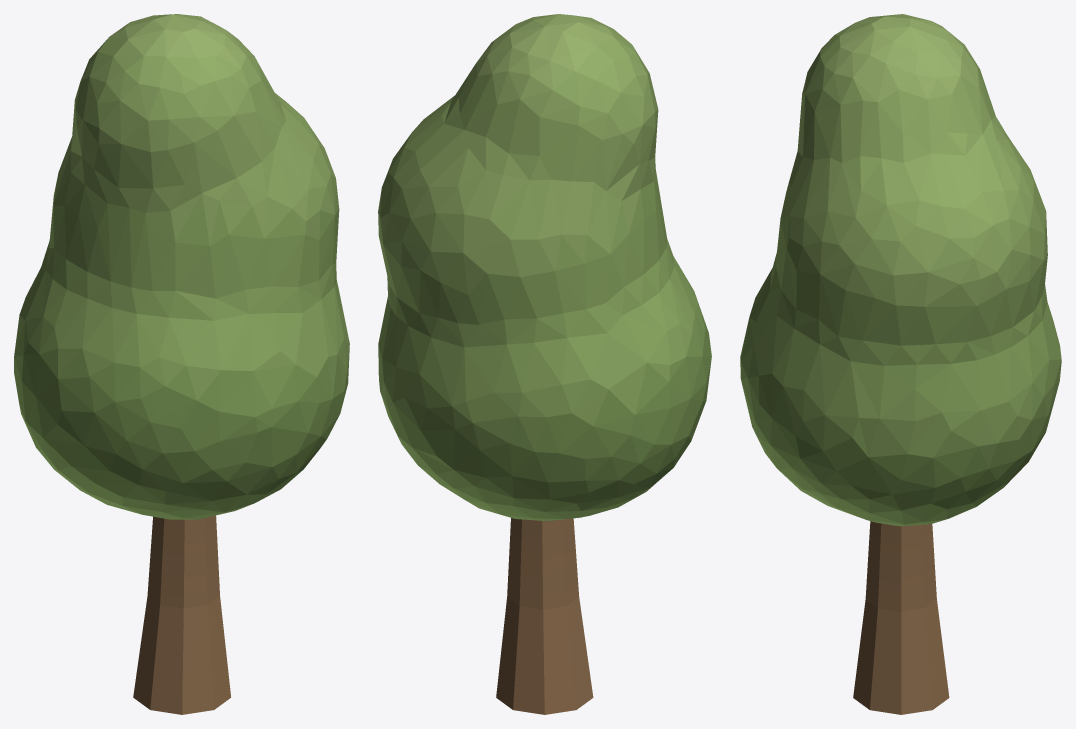
Rendered from grove-soft-2.glb.
3 renders of one model, left to right at view 1: azimuth 30°, elevation 25°; view 2: azimuth 150°, elevation 25°; view 3: azimuth 270°, elevation 25°, orthographic.
Parts seen in each view (by area): view 1: Icosphere, Trunk; view 2: Icosphere, Trunk; view 3: Icosphere, Trunk.
Part boxes in pixels (bbox=[...]): Icosphere: bbox=[14, 14, 349, 519]; Trunk: bbox=[133, 515, 230, 714]; Icosphere: bbox=[378, 14, 711, 520]; Trunk: bbox=[496, 518, 593, 714]; Icosphere: bbox=[740, 14, 1061, 526]; Trunk: bbox=[853, 521, 949, 714].
Size of the model in its own units: 0.9143 by 2.03 by 0.8879.
